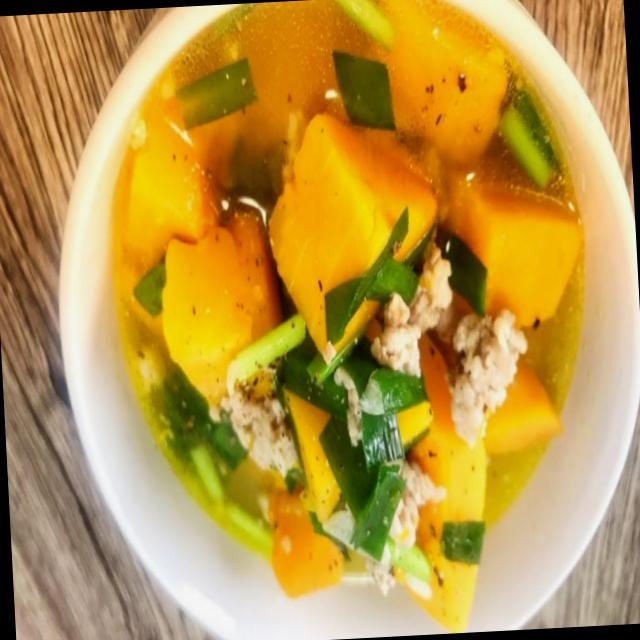canh bi do: (109, 0, 585, 634)
